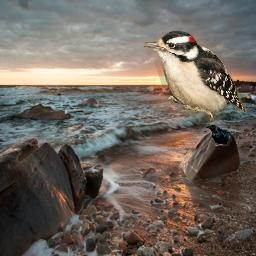Crow: (205, 125, 232, 146)
Woodpecker: (141, 31, 247, 124)
